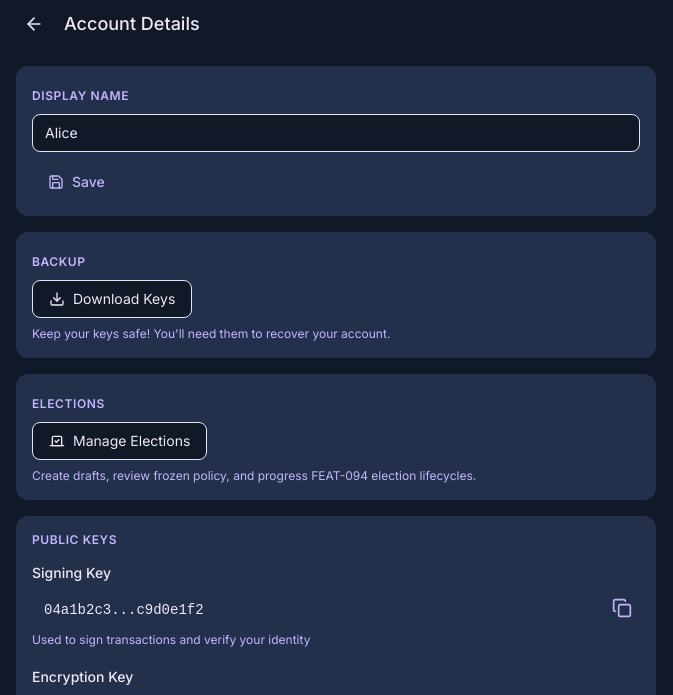
Test: AccountPage › Save Flow › should return to idle state after success timeout
Change name
Replace the text in the field showing "Alice" with "New Name" at (336, 133), box [32,114,640,152]
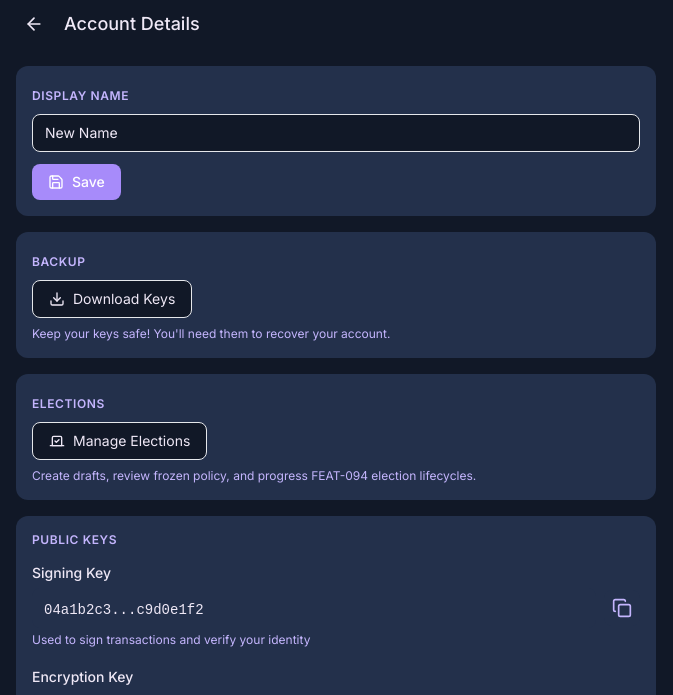
Click save
Click the button "Save".
click(76, 182)  # box [32,164,121,200]
Wait 2500 ms
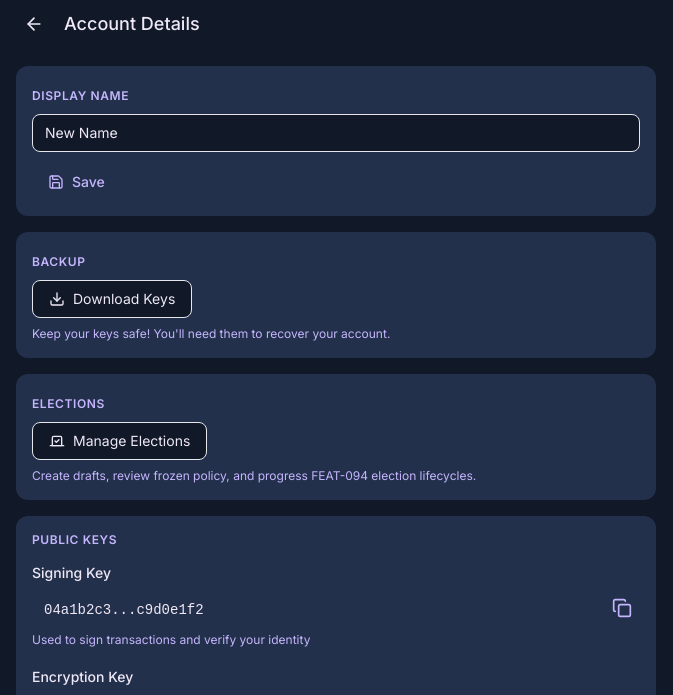
Check: the text "saved" is shown, box [72,172,105,192]
Check: the button "Save" is disabled, box [32,164,121,200]
